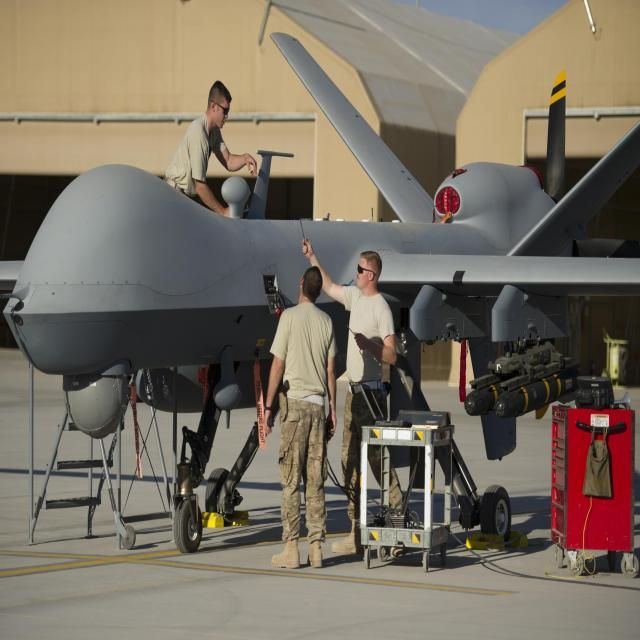MIL_Plane: (0, 32, 640, 553)
